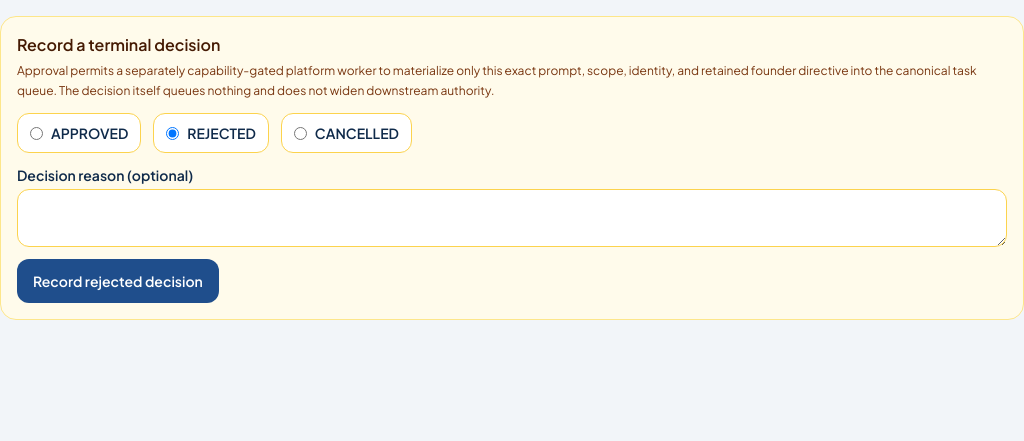
it: ApprovalDecisionForm › makes founder-directive task approval distinct from task execution
Check: the text "materialize only this exact prompt, scope, identity" is shown, box [17,63,977,98]
Click the radio button labelled "APPROVED" at (36, 133), box [30,126,43,140]
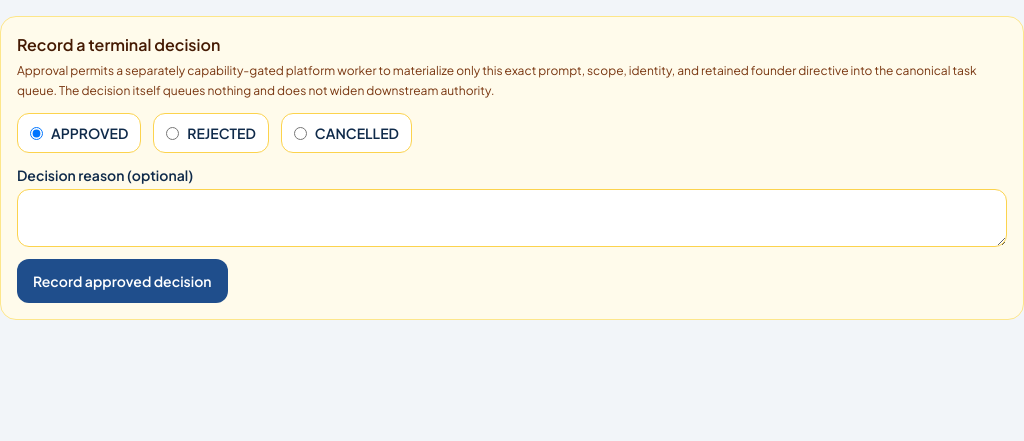
Click the button "Record approved decision" at (122, 281), box [17,259,228,303]
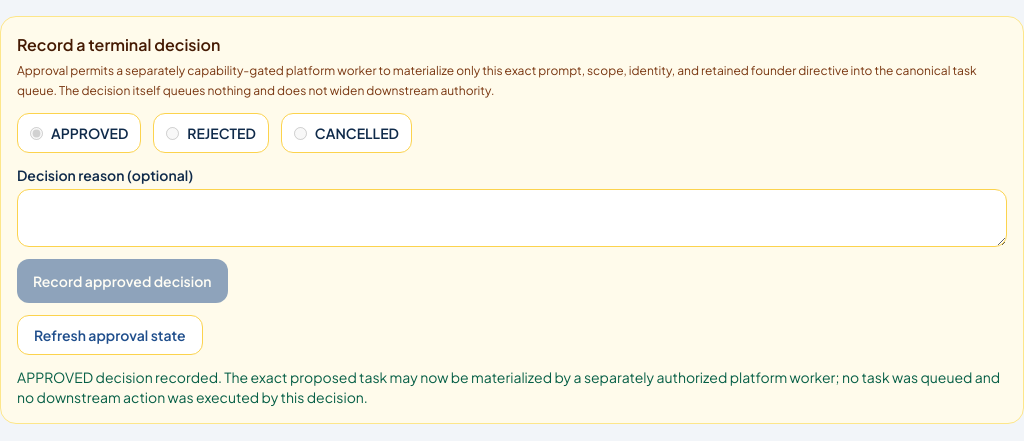
Check: the text "no task was queued and no downstream action was executed" is shown, box [17,368,1000,406]
